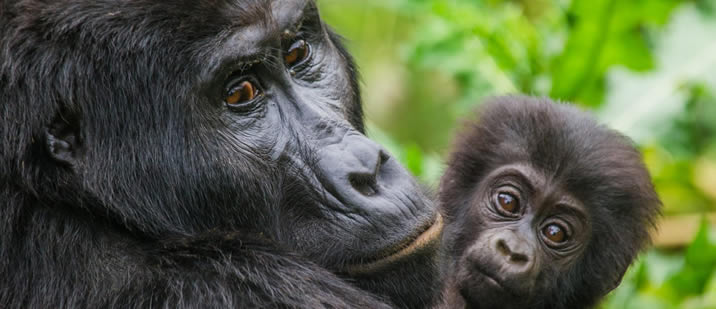Goriila: (1, 4, 464, 307), (439, 72, 664, 306)
